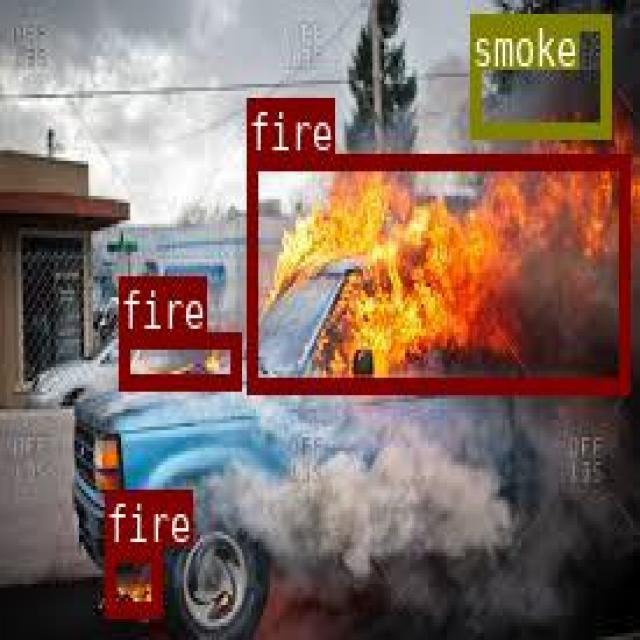fire: (245, 151, 627, 391), (117, 329, 238, 388), (104, 545, 160, 615)
smoke: (470, 12, 609, 135)
